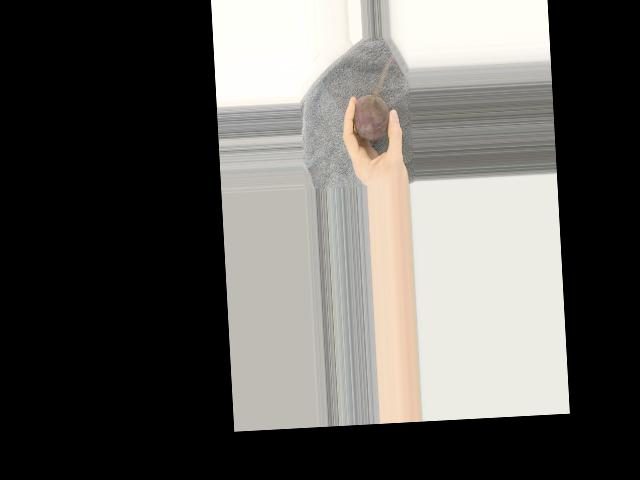beet: (352, 94, 390, 141)
